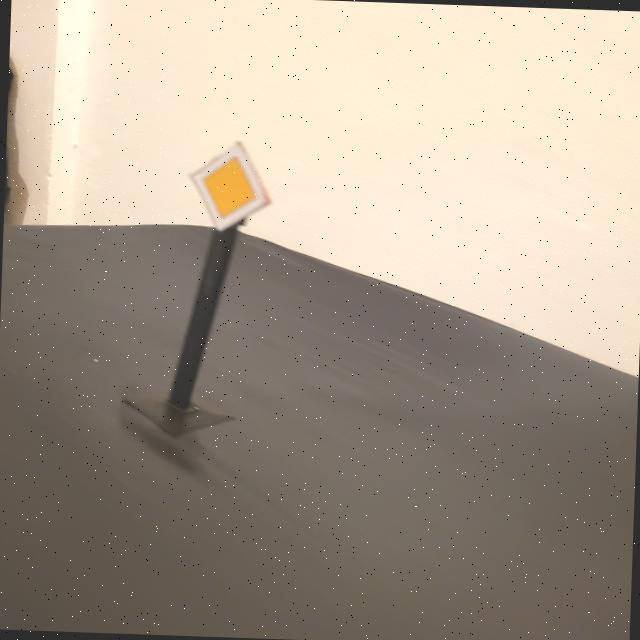priority: (185, 138, 272, 232)
